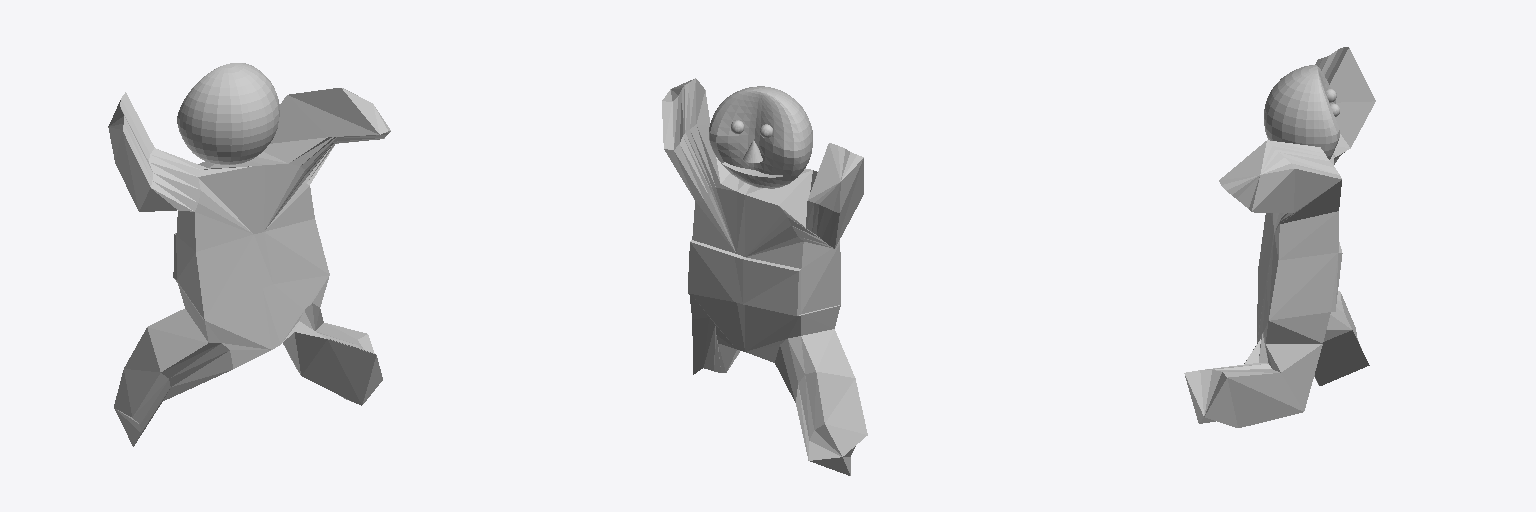
The model's file is manjump_000023.obj.
3 views of the same model, side by side, from view 1: azimuth 30°, elevation 25°; view 2: azimuth 150°, elevation 25°; view 3: azimuth 270°, elevation 25° (orthographic).
Parts seen in each view (by area): view 1: Cube; view 2: Cube; view 3: Cube.
Boxes of the visible parts, <box> form: Cube: <box>108,63,390,446</box>; Cube: <box>662,78,867,475</box>; Cube: <box>1184,47,1375,427</box>.
Size of the model in its own units: 82.17 by 124 by 59.41.